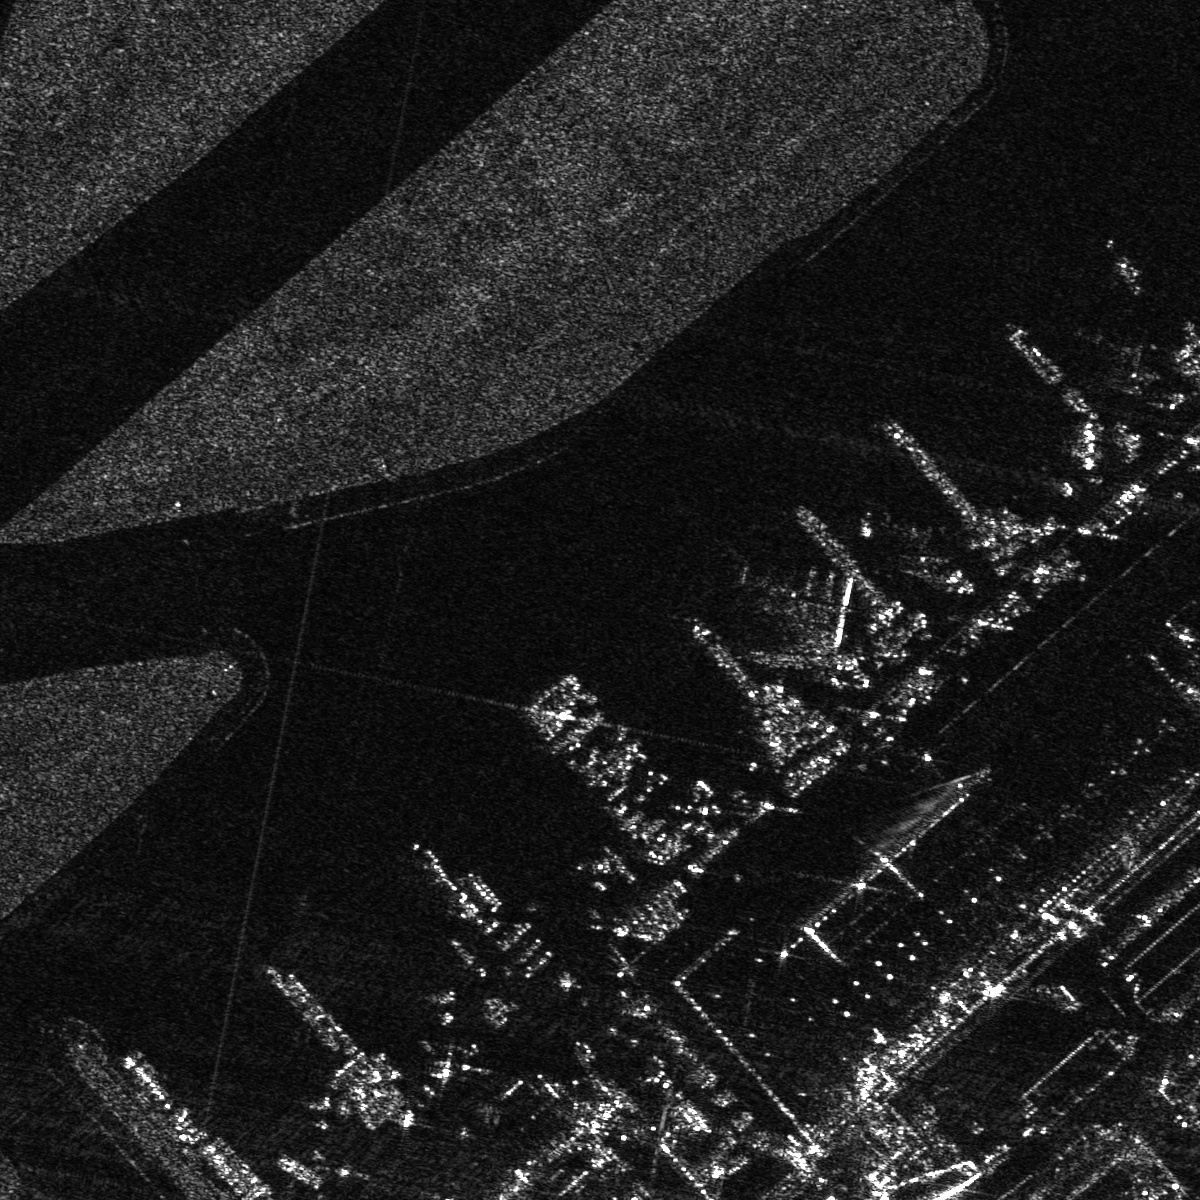Boeing787: (736, 563, 851, 665), (867, 504, 974, 589)
other: (1075, 325, 1158, 386)
